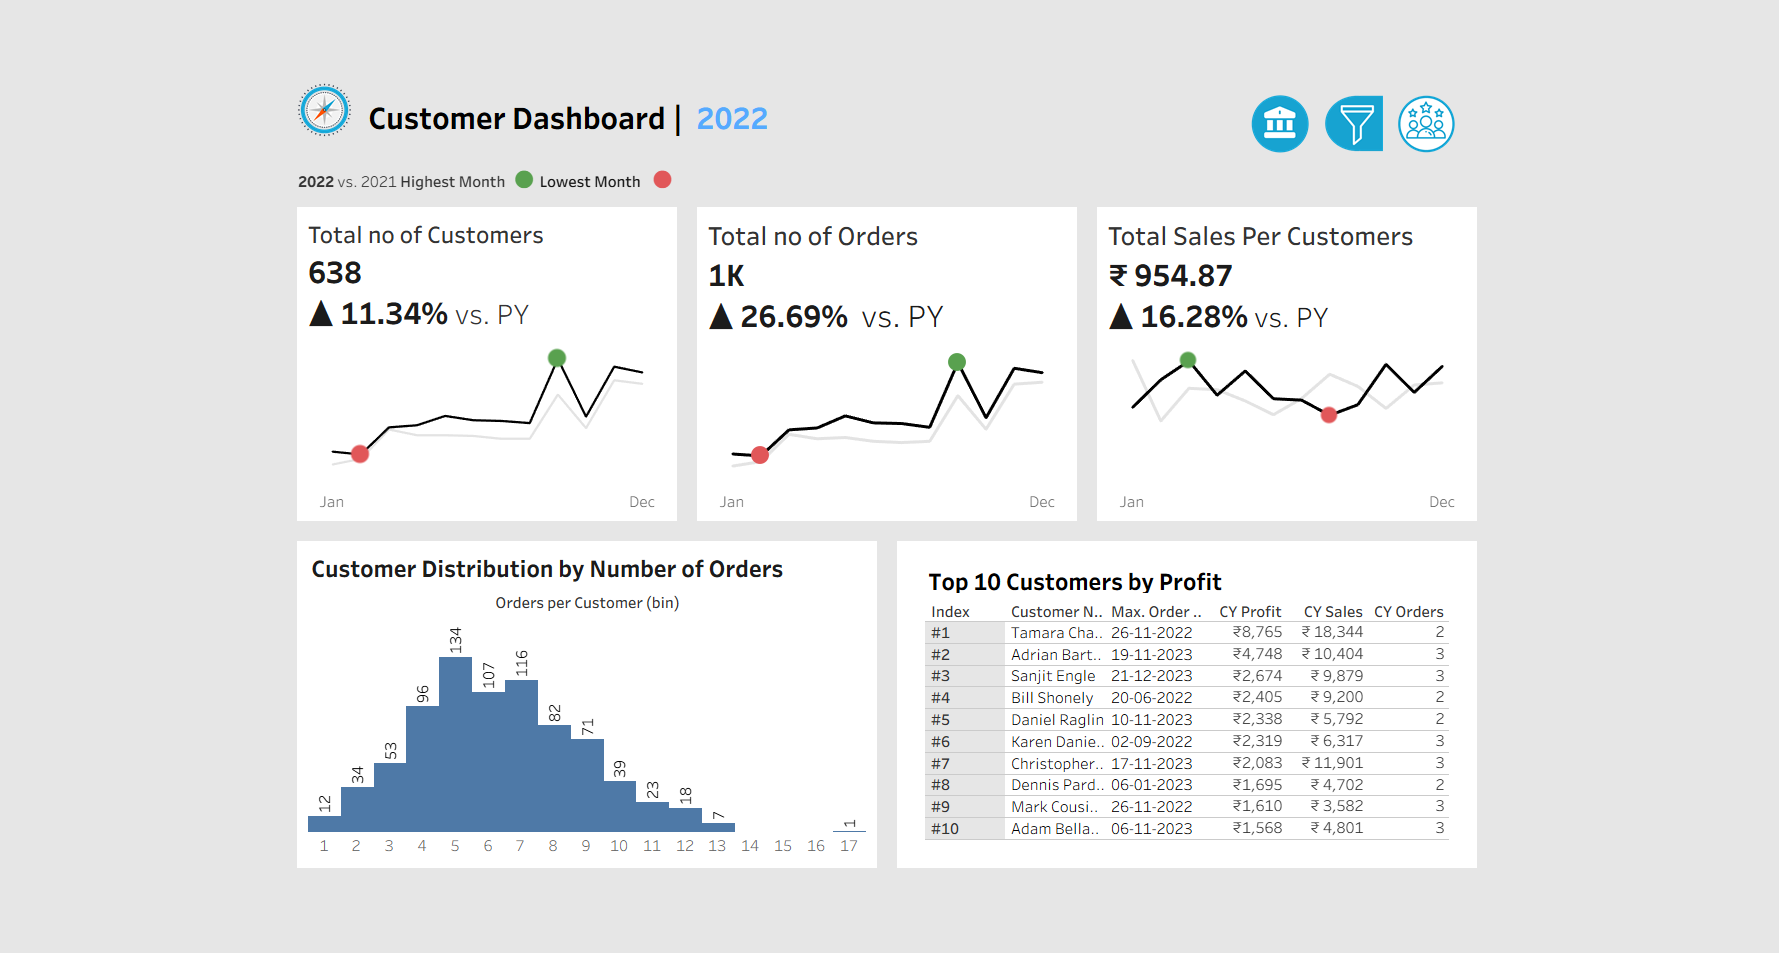

This screenshot's page, from the dashboard's own definition file:
{"tool":"tableau","page":{"name":"Customer Dashboard","canvas":[1200,800],"ordinal":0},"visuals":[{"type":"image","param":"Image/Icon - Logo.png","box":[0,0,74,78]},{"type":"text","box":[74,0,906,78]},{"type":"text","box":[954,3,243,197]},{"type":"dashboard-object","box":[956,12,74,67]},{"type":"dashboard-object","box":[1030,12,73,67]},{"type":"dashboard-object","box":[1103,12,73,67]},{"type":"worksheet","title":"Legend KPIs","mark":"Automatic","box":[0,78,1200,47]},{"type":"worksheet","title":"KPI Total Customers","mark":"Automatic","rows":["Calculation_0786484594368517"],"cols":["Order Date"],"box":[0,125,400,328]},{"type":"worksheet","title":"KPI Orders","mark":"Automatic","rows":["Calculation_0786484625555474"],"cols":["Order Date"],"box":[400,125,400,328]},{"type":"worksheet","title":"KPI Sales Per Customer","mark":"Automatic","rows":["Calculation_0786484613849100"],"cols":["Order Date"],"box":[800,125,400,328]},{"type":"parameter","param":"[Parameters].[Parameter 1]","box":[954,200,243,94]},{"type":"text","box":[954,294,243,83]},{"type":"filter","title":"Customer Distribution by Number of Orders","param":"[federated.039qkze1vgfwla18uw7mo0r3dhva].[none:Category:nk]","box":[954,377,243,61]},{"type":"filter","title":"Customer Distribution by Number of Orders","param":"[federated.039qkze1vgfwla18uw7mo0r3dhva].[none:Sub-Category:nk]","box":[954,438,243,61]},{"type":"text","box":[17,470,566,40]},{"type":"text","box":[634,487,532,32]},{"type":"text","box":[954,499,243,97]},{"type":"worksheet","title":"Customer Distribution by Number of Orders","mark":"Bar","rows":["Customer ID"],"cols":["Orders per Customer (bin)"],"box":[17,510,566,273]},{"type":"worksheet","title":"Top 10 Customers","mark":"Text","rows":["Calculation_0786484836495384","Customer Name","Order Date"],"box":[634,519,532,247]},{"type":"filter","title":"Customer Distribution by Number of Orders","param":"[federated.039qkze1vgfwla18uw7mo0r3dhva].[none:Region:nk]","box":[954,596,243,61]},{"type":"filter","title":"Customer Distribution by Number of Orders","param":"[federated.039qkze1vgfwla18uw7mo0r3dhva].[none:State:nk]","box":[954,657,243,61]},{"type":"filter","title":"Customer Distribution by Number of Orders","param":"[federated.039qkze1vgfwla18uw7mo0r3dhva].[none:City:nk]","box":[954,718,243,61]}]}

Visuals, with their boxes on the page's 1200x800 design canvas (x1, y1, x2, y2). These are canvas units, not pixel positions in the 1779x953 screenshot, which may show the page scaled, cropped or inside an application window:
image: pyautogui.locateOnScreen(0, 0, 74, 78)
text: pyautogui.locateOnScreen(74, 0, 980, 78)
text: pyautogui.locateOnScreen(954, 3, 1197, 200)
dashboard-object: pyautogui.locateOnScreen(956, 12, 1030, 79)
dashboard-object: pyautogui.locateOnScreen(1030, 12, 1103, 79)
dashboard-object: pyautogui.locateOnScreen(1103, 12, 1176, 79)
"Legend KPIs" worksheet: pyautogui.locateOnScreen(0, 78, 1200, 125)
"KPI Total Customers" worksheet: pyautogui.locateOnScreen(0, 125, 400, 453)
"KPI Orders" worksheet: pyautogui.locateOnScreen(400, 125, 800, 453)
"KPI Sales Per Customer" worksheet: pyautogui.locateOnScreen(800, 125, 1200, 453)
parameter: pyautogui.locateOnScreen(954, 200, 1197, 294)
text: pyautogui.locateOnScreen(954, 294, 1197, 377)
"Customer Distribution by Number of Orders" filter: pyautogui.locateOnScreen(954, 377, 1197, 438)
"Customer Distribution by Number of Orders" filter: pyautogui.locateOnScreen(954, 438, 1197, 499)
text: pyautogui.locateOnScreen(17, 470, 583, 510)
text: pyautogui.locateOnScreen(634, 487, 1166, 519)
text: pyautogui.locateOnScreen(954, 499, 1197, 596)
"Customer Distribution by Number of Orders" worksheet (Bar marks): pyautogui.locateOnScreen(17, 510, 583, 783)
"Top 10 Customers" worksheet (Text marks): pyautogui.locateOnScreen(634, 519, 1166, 766)
"Customer Distribution by Number of Orders" filter: pyautogui.locateOnScreen(954, 596, 1197, 657)
"Customer Distribution by Number of Orders" filter: pyautogui.locateOnScreen(954, 657, 1197, 718)
"Customer Distribution by Number of Orders" filter: pyautogui.locateOnScreen(954, 718, 1197, 779)
